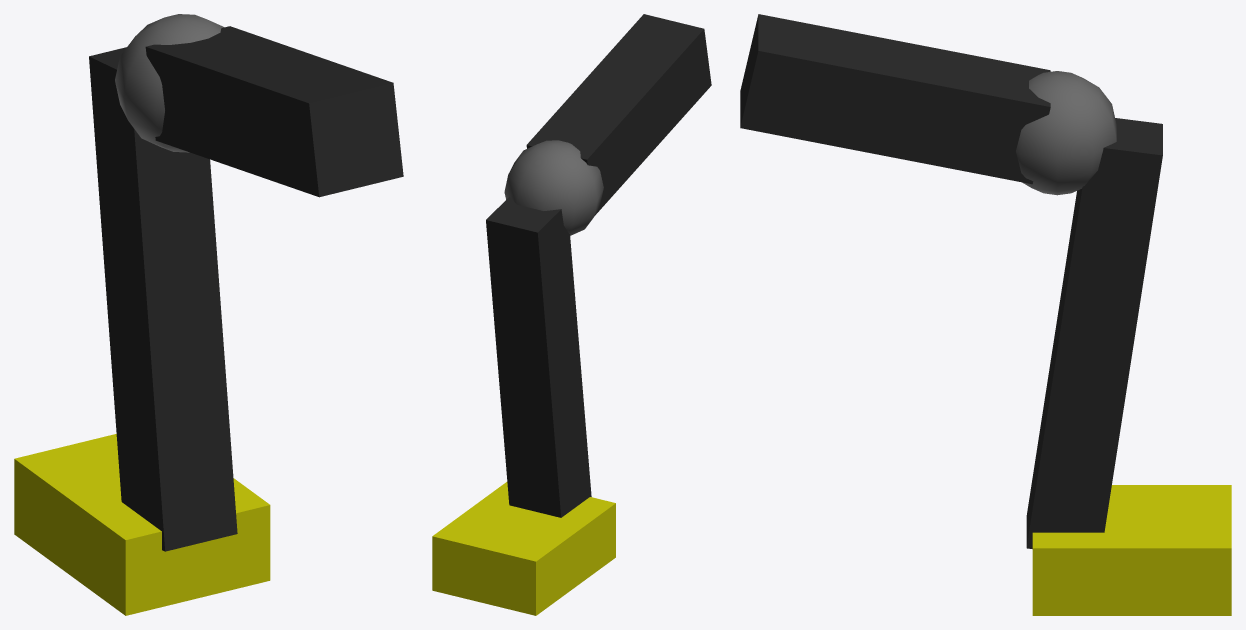
Rendered from enemy_walker_leg.obj.
3 views of the same model, side by side, from view 1: azimuth 30°, elevation 25°; view 2: azimuth 150°, elevation 25°; view 3: azimuth 270°, elevation 25° (orthographic). The views are drawn at different scales.
Visible parts, largest first — view 1: leg, foot, joint; view 2: leg, foot, joint; view 3: leg, foot, joint.
Part boxes in pixels (x1,y1,x2,y2): leg: [89, 26, 403, 551]; foot: [14, 434, 270, 615]; joint: [115, 14, 224, 152]; leg: [486, 14, 711, 517]; foot: [432, 482, 615, 615]; joint: [504, 140, 603, 235]; leg: [740, 14, 1162, 548]; foot: [1032, 485, 1231, 615]; joint: [1016, 71, 1116, 195].
Size of the model in its own units: 0.12 by 0.4892 by 0.3947.
